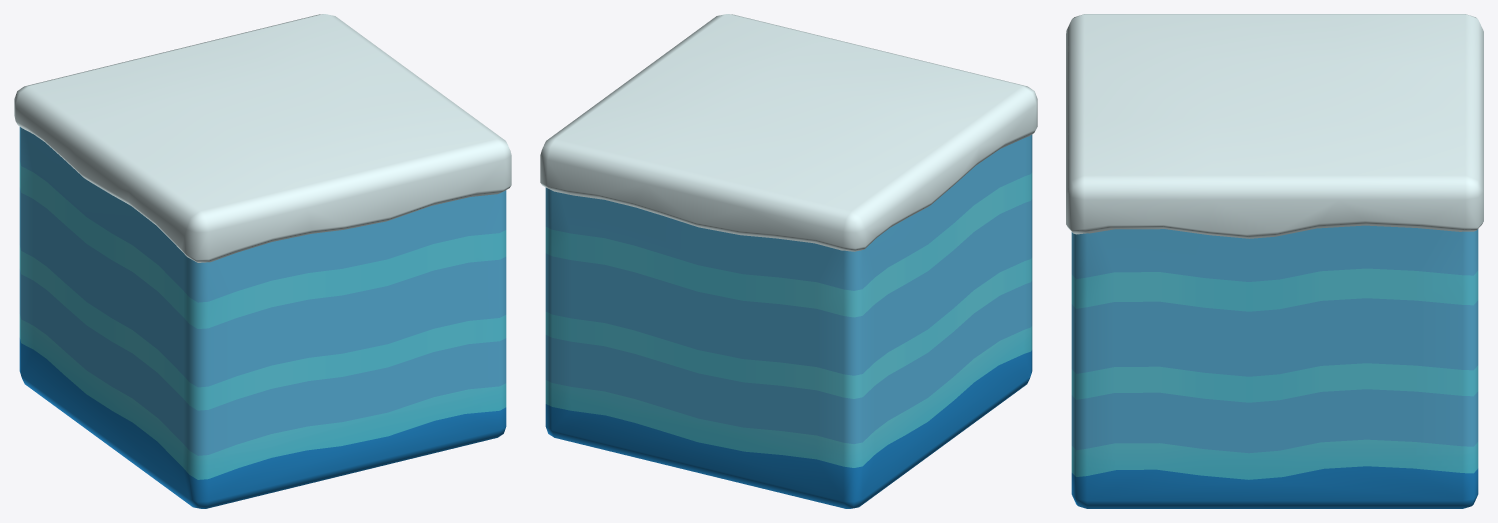
File: ice_platform_003.fbx
The picture shows the model from 3 angles, left to right: view 1: azimuth 30°, elevation 25°; view 2: azimuth 150°, elevation 25°; view 3: azimuth 270°, elevation 25°; orthographic projection. The views are drawn at different scales.
Parts seen in each view (by area): view 1: ice_platform_003; view 2: ice_platform_003; view 3: ice_platform_003.
Part boxes in pixels (x1,y1,x2,y2): ice_platform_003: (14,14,511,508); ice_platform_003: (540,14,1037,508); ice_platform_003: (1066,14,1483,508).
Size of the model in its own units: 447 by 447 by 400.
